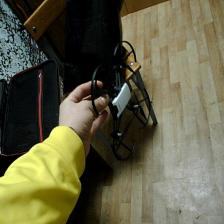drone: (86, 38, 154, 168)
